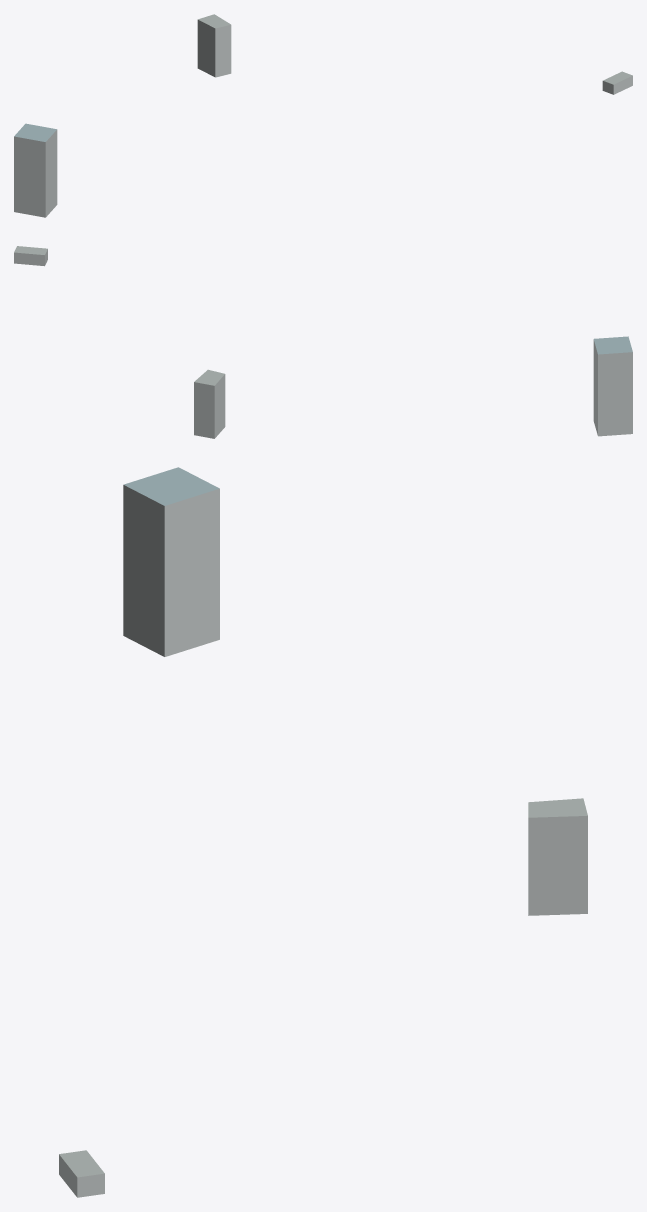
File: far.glb
3 renders of one model, top to bottom at view 1: azimuth 30°, elevation 25°; view 2: azimuth 150°, elevation 25°; view 3: azimuth 270°, elevation 25°, orthographic. The views are drawn at different scales.
Size of the model in its own units: 152 by 18.5 by 58.69.
